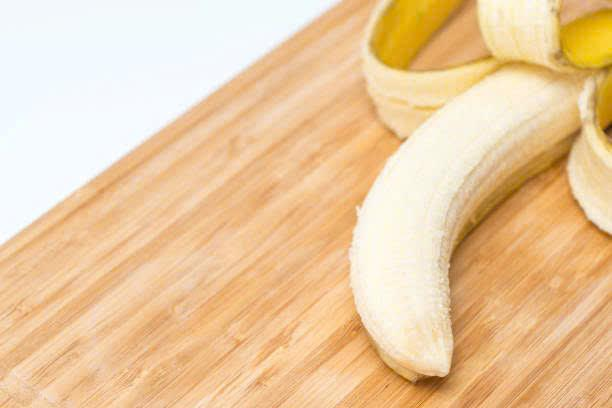banana: (332, 61, 573, 387)
